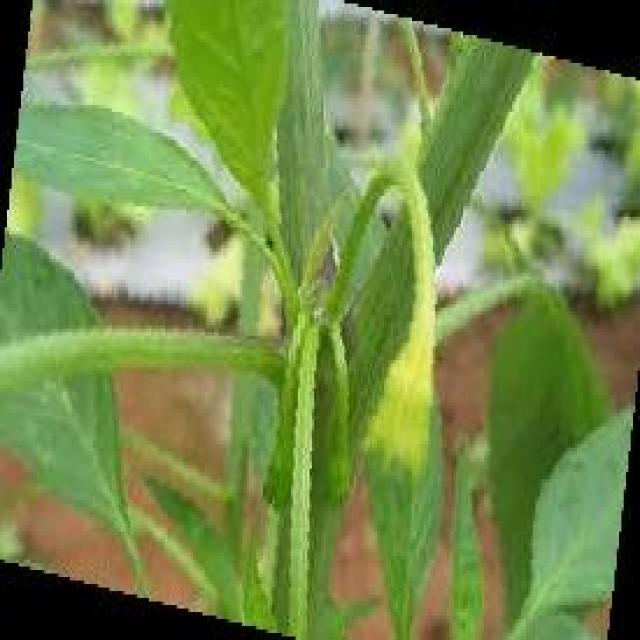Mosaic_virus: (0, 121, 284, 246)
